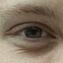eye: (26, 27, 41, 38)
